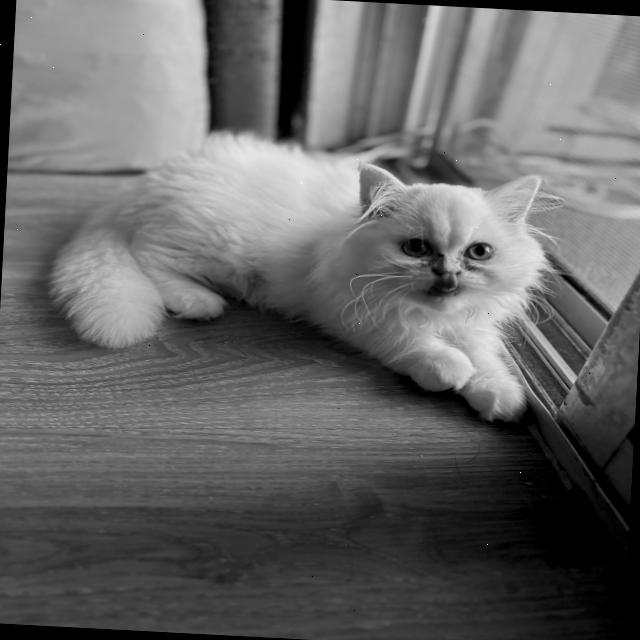persian_cat: (322, 150, 560, 326)
